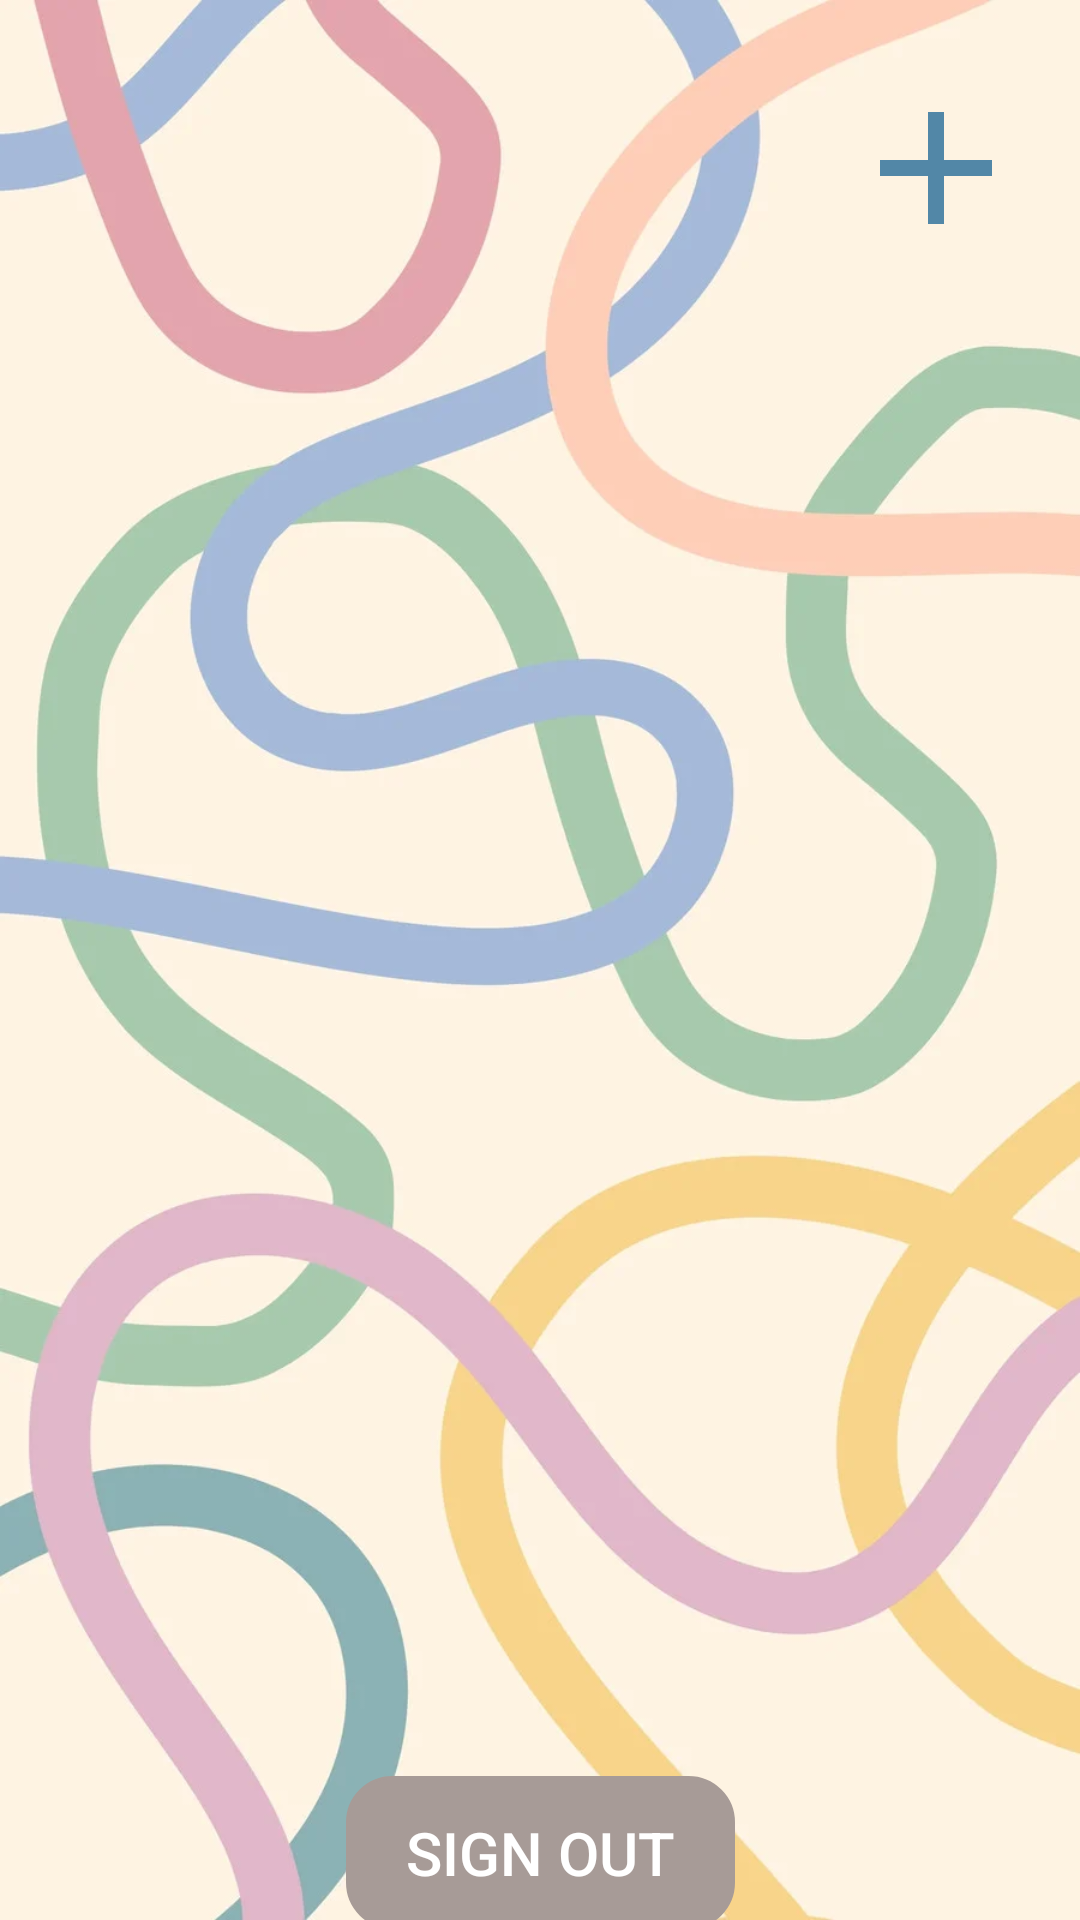

Point at icon controls on the screen. Image size 1080 x 1920, points as point (x, y).
add: point (936, 168)
